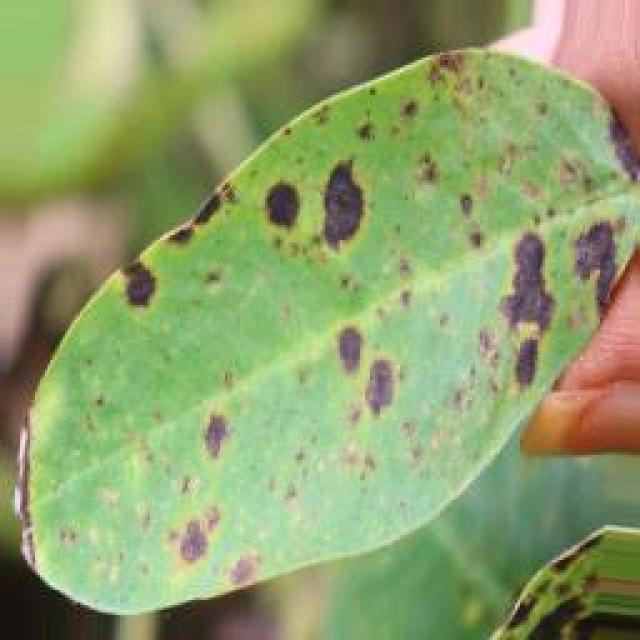Yellowish: (60, 0, 620, 585)
